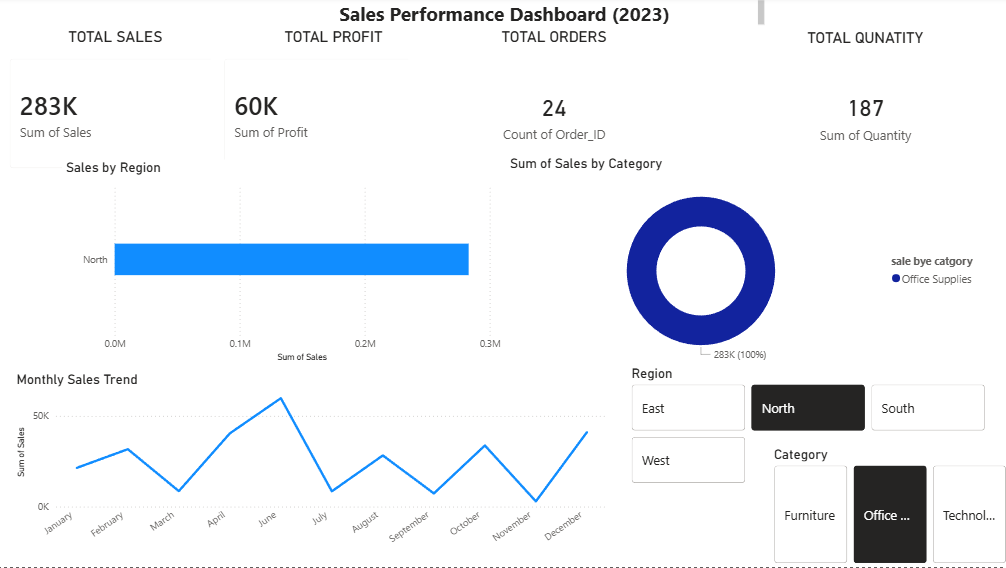

What the dashboard file says about the page in this screenshot:
{"tool":"powerbi","page":{"name":"Page 1","canvas":[1280,720],"ordinal":0},"visuals":[{"type":"cardVisual","title":"TOTAL SALES","fields":{"Data":["Sum(Sales_Data.Sales)"]},"box":[0,39.7,300.5,194.6],"z":0},{"type":"cardVisual","title":"TOTAL PROFIT","fields":{"Data":["Sum(Sales_Data.Profit)"]},"box":[270.2,39.7,309.9,194.6],"z":1},{"type":"card","title":"TOTAL ORDERS","fields":{"Values":["CountNonNull(Sales_Data.Order_ID)"]},"box":[519.7,39.7,366.6,196.5],"z":2},{"type":"clusteredBarChart","title":"Sales by Region","fields":{"Category":["Sales_Data.Region"],"Y":["Sum(Sales_Data.Sales)"]},"box":[83.2,206,557.5,258.9],"z":3},{"type":"lineChart","title":"Monthly Sales Trend","fields":{"Category":["Sales_Data.DateOrder_ID.Variation.Date Hierarchy.Month"],"Y":["Sum(Sales_Data.Sales)"]},"box":[20.8,472.4,754,247.6],"z":4},{"type":"donutChart","fields":{"Category":["Sales_Data.Category"],"Y":["Sum(Sales_Data.Sales)"]},"box":[642.5,200.3,608.5,272.1],"z":5},{"type":"advancedSlicerVisual","fields":{"Values":["Sales_Data.Region"]},"box":[795.6,464.9,455.4,155],"z":8},{"type":"advancedSlicerVisual","title":"                                Category","fields":{"Values":["Sales_Data.Category"]},"box":[975.1,566.9,304.3,153.1],"z":9},{"type":"card","title":"TOTAL QUNATITY","fields":{"Values":["Sum(Sales_Data.Quantity)"]},"box":[910.9,41.6,368.5,194.6],"z":10},{"type":"textbox","box":[309.9,0,663.3,41.6],"z":11}]}

Visuals, with their boxes in screenshot pixels (x1, y1, x2, y2), scaled from the page's 1280x720 canvas onto the 1006x568 screenshot:
"TOTAL SALES" cardVisual: bbox(0, 31, 236, 185)
"TOTAL PROFIT" cardVisual: bbox(212, 31, 456, 185)
"TOTAL ORDERS" card: bbox(408, 31, 697, 186)
"Sales by Region" clusteredBarChart: bbox(65, 163, 504, 367)
"Monthly Sales Trend" lineChart: bbox(16, 373, 609, 567)
donutChart - Sales_Data.Category x Sum(Sales_Data.Sales): bbox(505, 158, 983, 373)
advancedSlicerVisual - Sales_Data.Region: bbox(625, 367, 983, 489)
"                                Category" advancedSlicerVisual: bbox(766, 447, 1005, 567)
"TOTAL QUNATITY" card: bbox(716, 33, 1005, 186)
textbox: bbox(244, 0, 765, 33)
